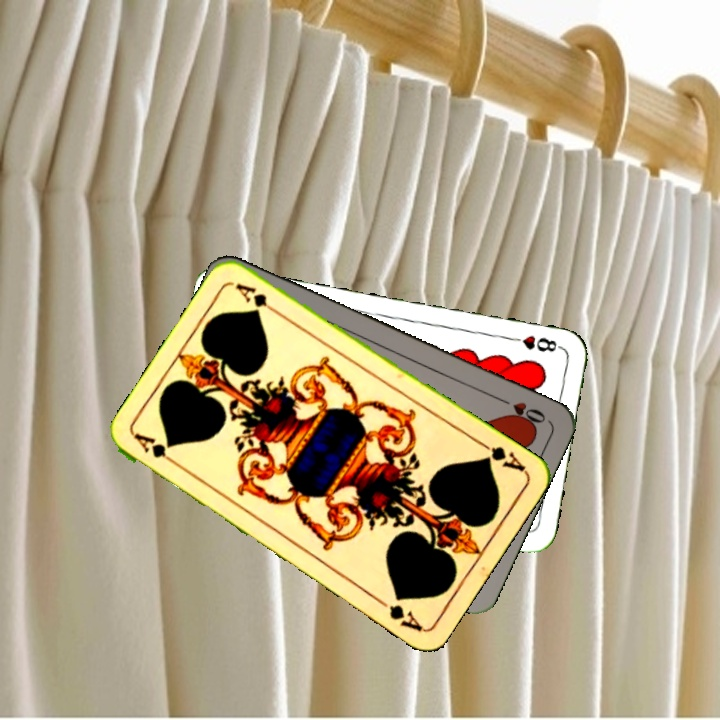GA: (131, 429, 183, 471), (474, 437, 529, 475)
H8: (505, 331, 564, 355)
HO: (494, 393, 549, 430)
